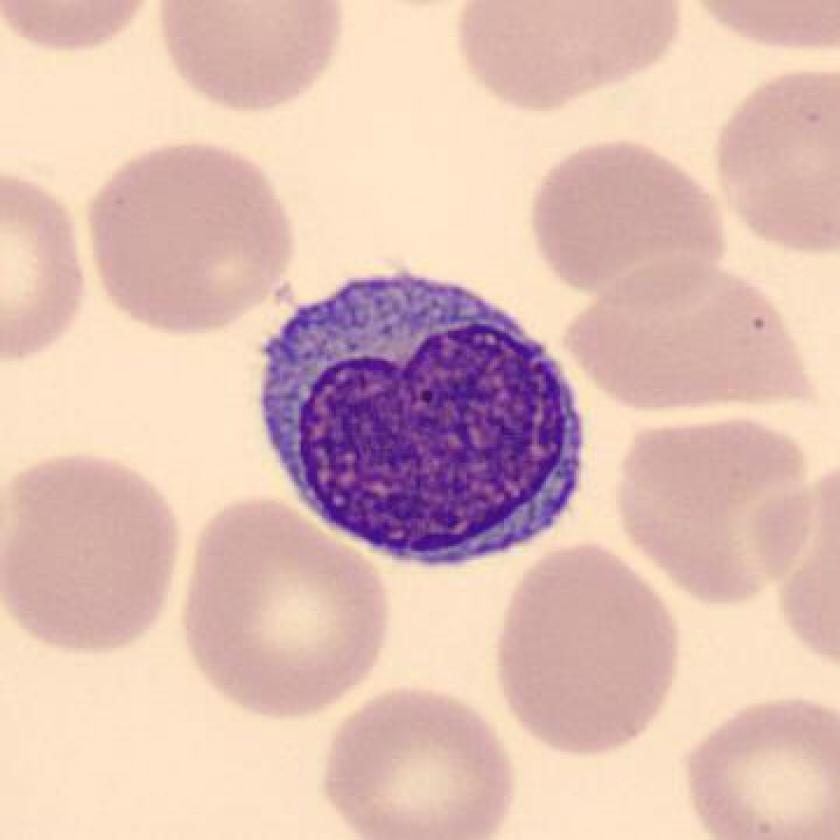monocyte: (227, 251, 603, 577)
